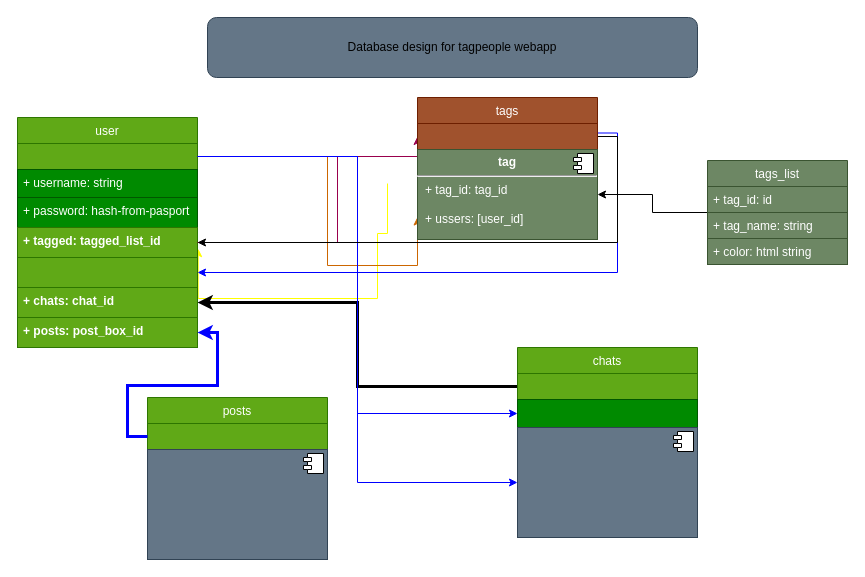
Some shapes in this 865 by 577 pixel diagram are drawn without their labels. The shapes that lost their labels are listed below. From the top down, each one's centre as x and y in pixels, then its label:
(x=107, y=156): + user_id: id
(x=507, y=136): + tagged_list_id: id
(x=107, y=272): + tagged_by: tagged_list_id
(x=607, y=386): + chat_id: id
(x=607, y=413): + users : [user_id]
(x=237, y=436): + post_box_id: id
(x=607, y=482): message + user_id: user_id + date: tiem_now + message: string
(x=237, y=504): post + title : string + images :[string] + post : string
